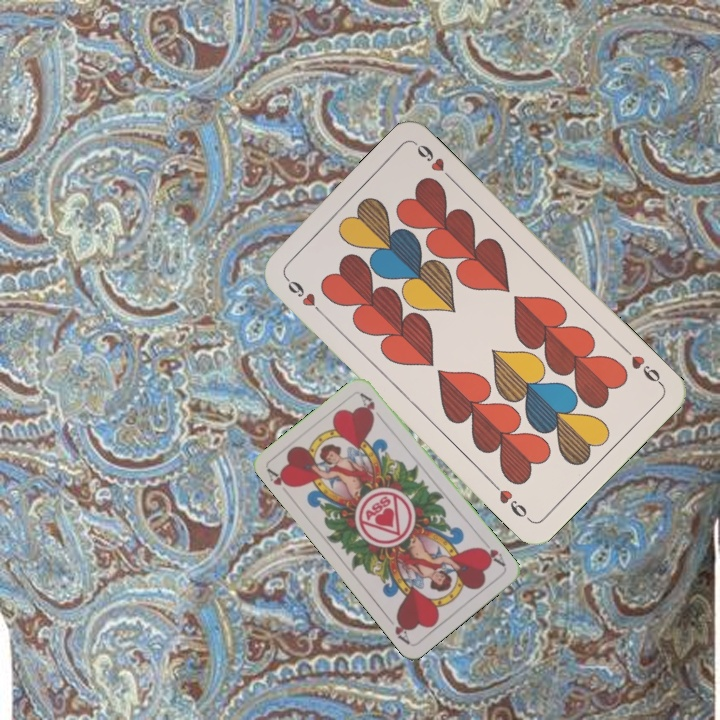H9: (619, 343, 666, 389), (281, 273, 327, 319)
HA: (263, 465, 297, 500), (475, 542, 508, 569)
